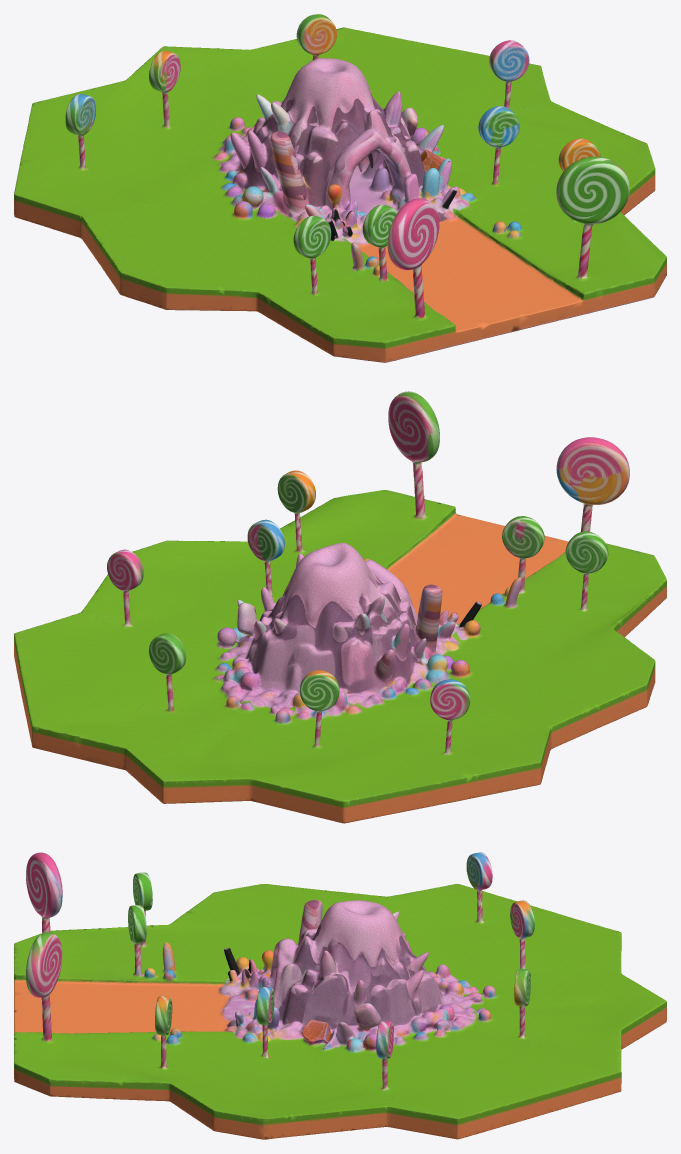
File: CandyCave-Region1.glb
3 renders of one model, top to bottom at view 1: azimuth 30°, elevation 25°; view 2: azimuth 150°, elevation 25°; view 3: azimuth 270°, elevation 25°, orthographic. The views are drawn at different scales.
Bounding box in the file's own units: 1.62 × 0.4312 × 1.9.
1 material, 1 textured.
